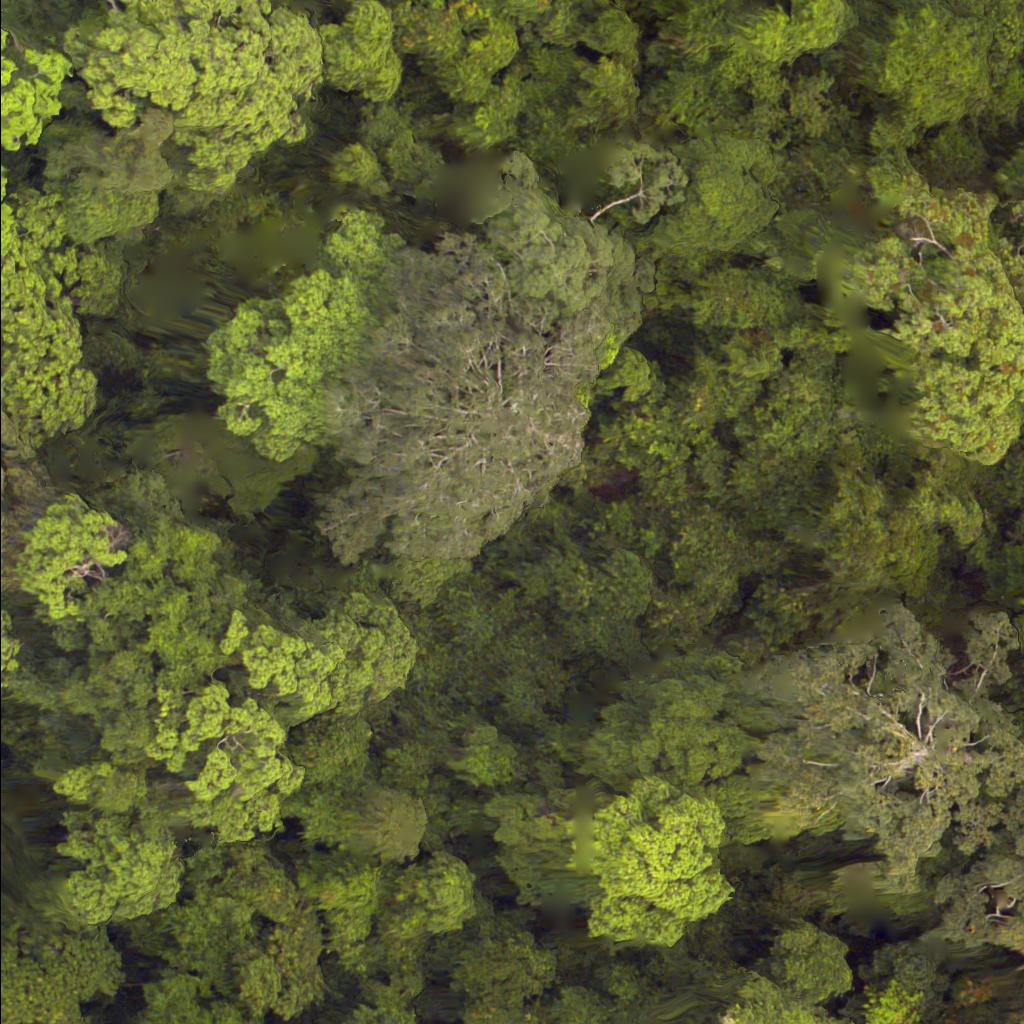crown: (808, 170, 1023, 492), (754, 628, 1019, 888), (56, 0, 337, 188), (558, 785, 736, 953), (710, 972, 869, 1023), (764, 923, 855, 1002), (995, 544, 1023, 653), (0, 609, 22, 699), (0, 522, 10, 591)
